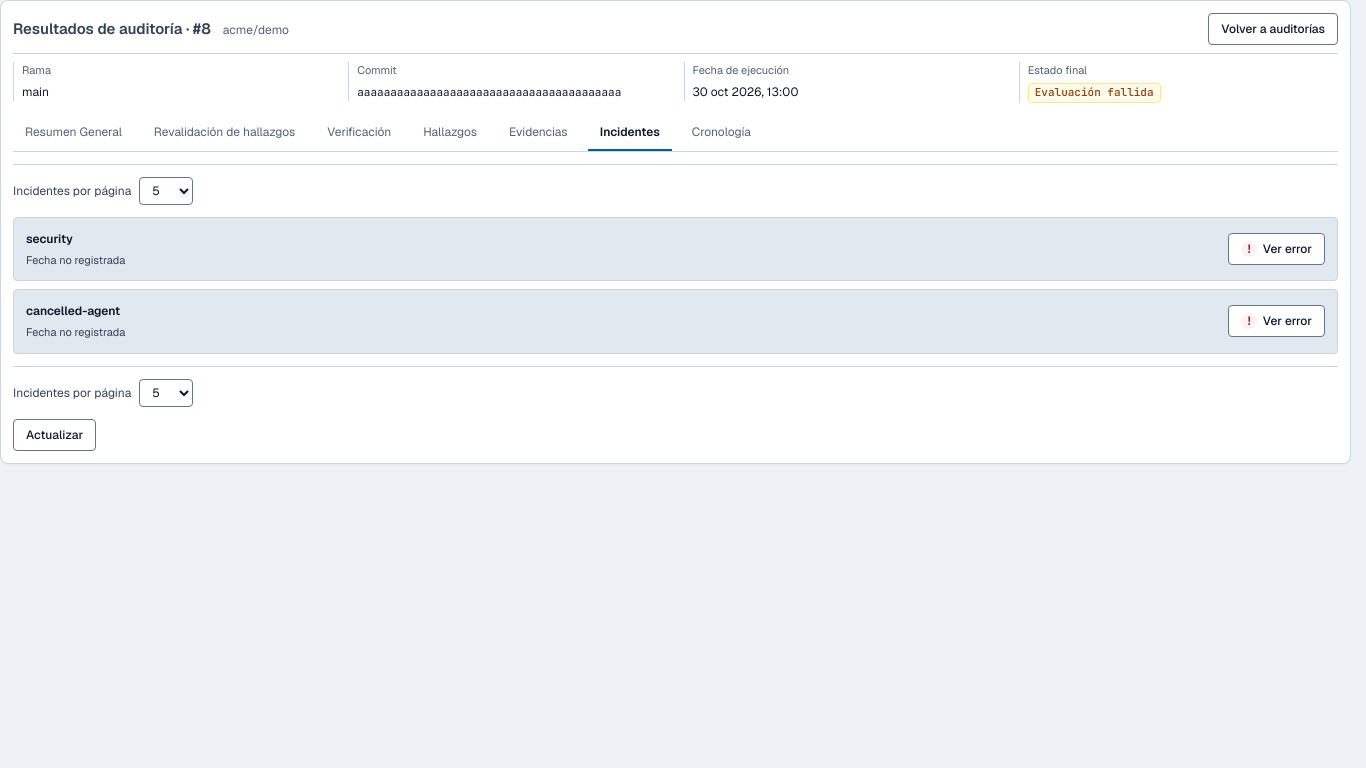
shows recorded root and child errors even when cancellation is confirmed
The width and height of the screenshot is (1366, 768).
Click the button "! Ver error" in the row of "cancelled-agent" at (1277, 321), box x1=1228 y1=305 x2=1325 y2=337
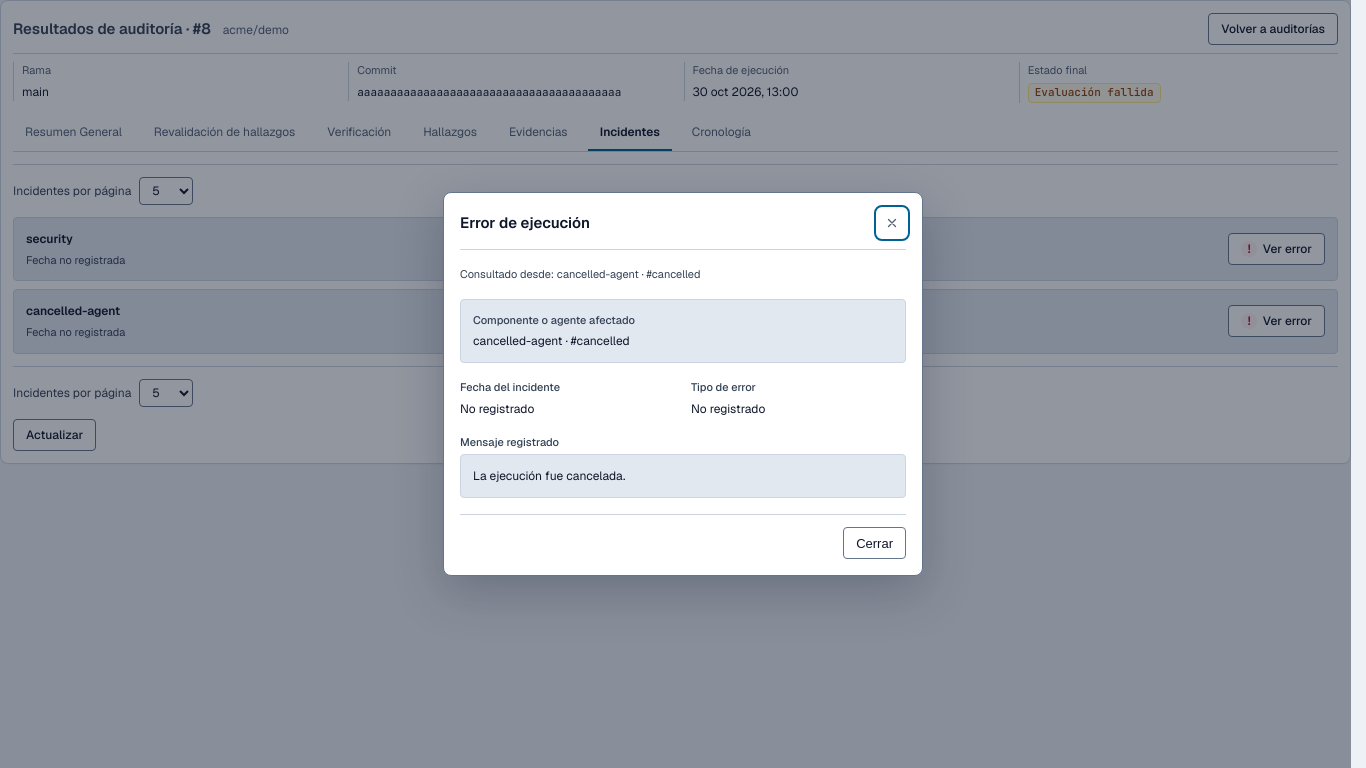
Now the dialog shows "La ejecución fue cancelada.", box x1=473 y1=468 x2=625 y2=484
